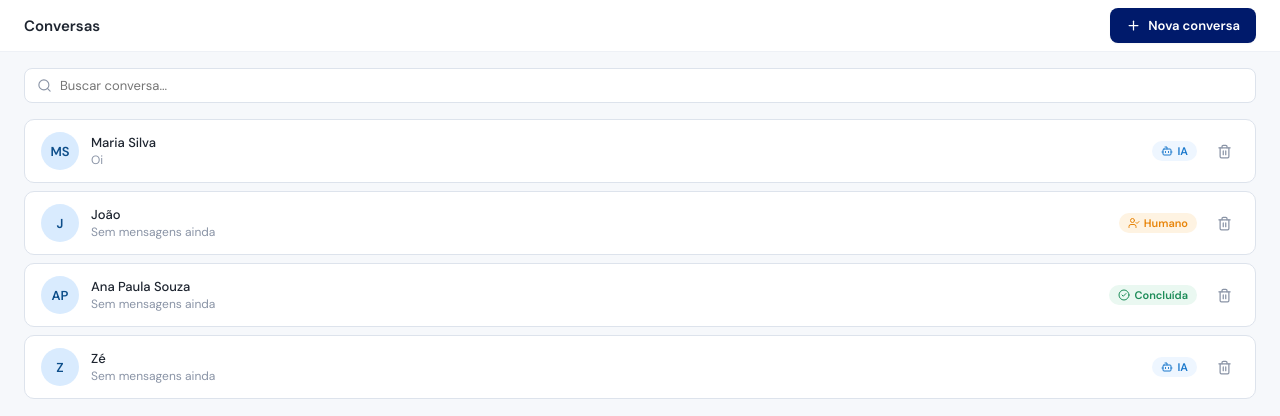
ListaConversas › cancela a exclusão ao clicar em "Não"
Expected: the text "Maria Silva" is shown, [91,134,156,151]
Click the button named "Apagar conversa" in the row of "Maria Silva" at (1224, 151), box [1209,136,1239,166]
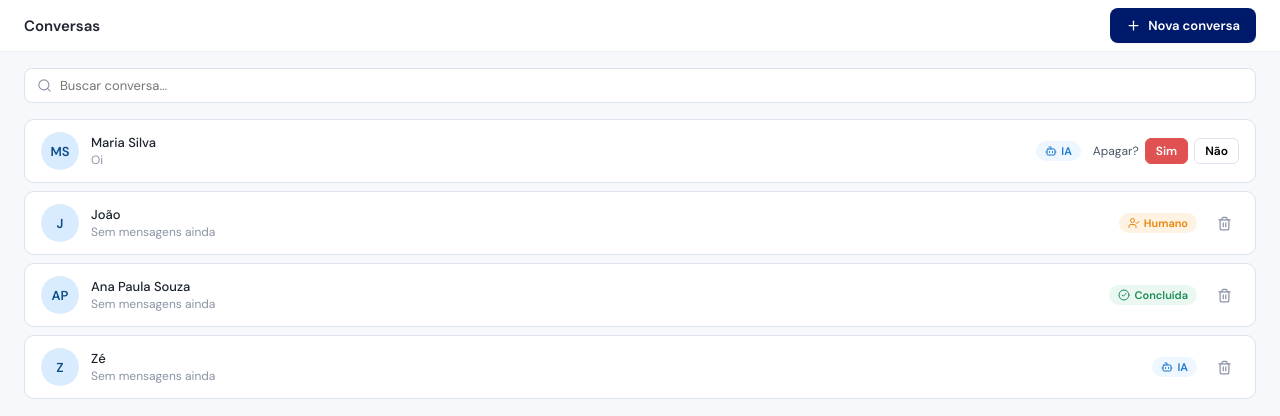
Click the button "Não" at (1217, 151), box [1194,138,1239,164]
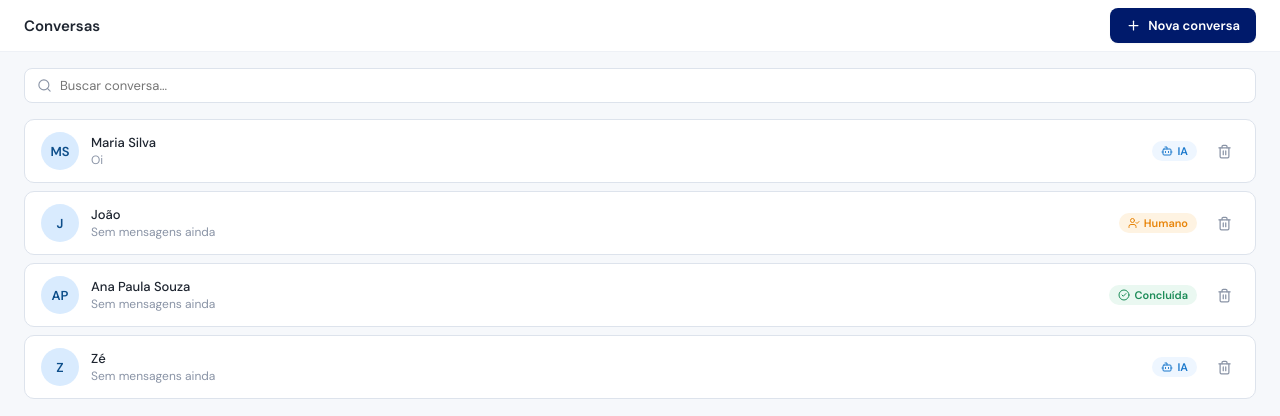
Result: the text "Apagar?" is gone
